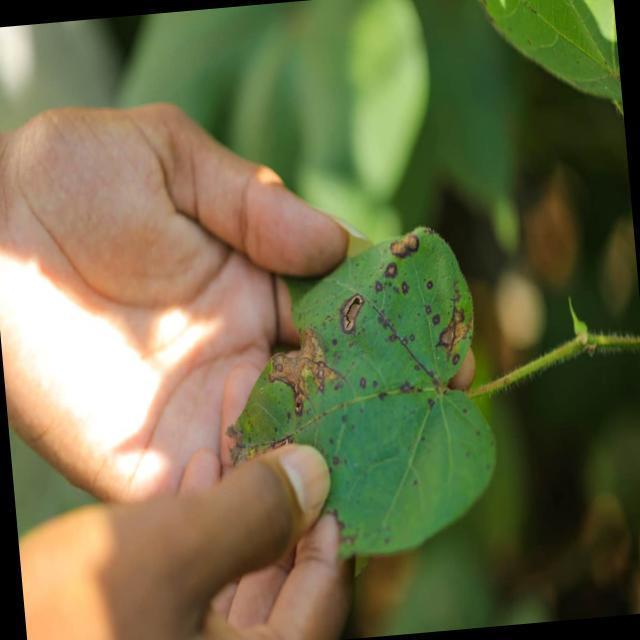Bacterial Spot: (325, 226, 489, 524)
